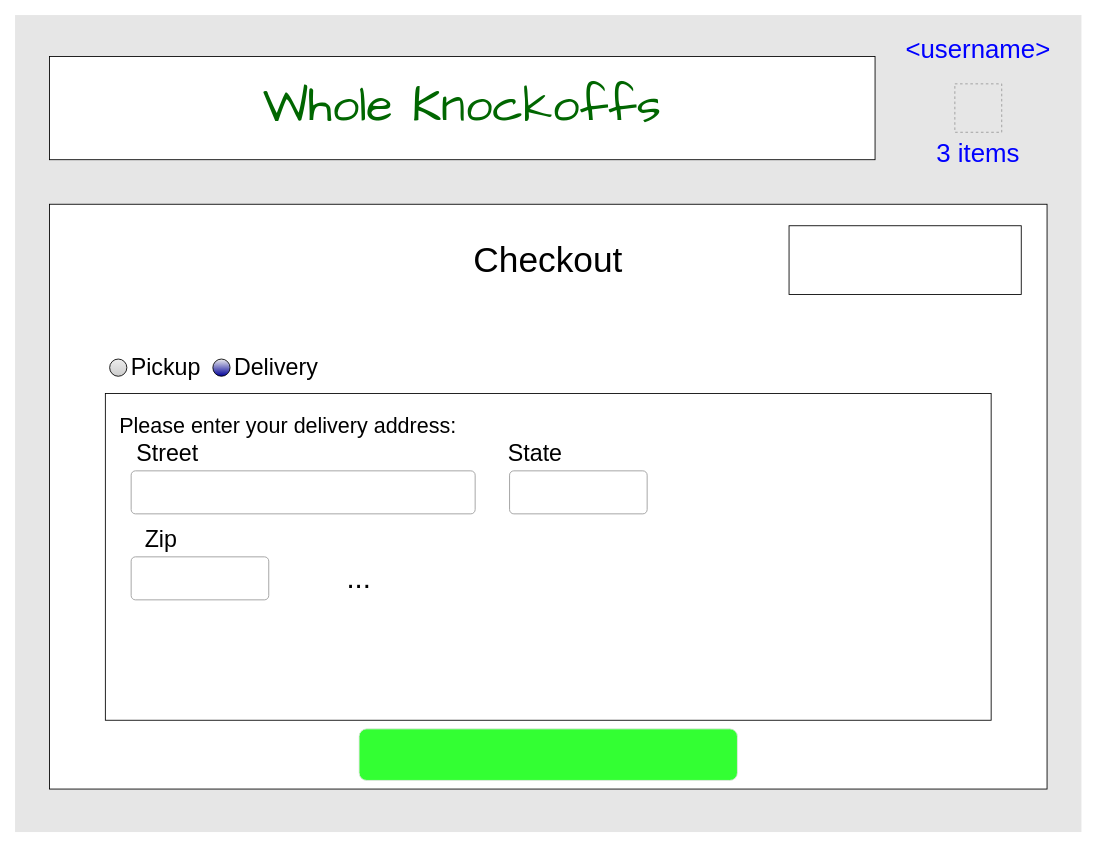
Image size: 1096x846. Some labels were removed from this diagram. Grey dashed boxes stand in for pictures. Each missing label, with the centre of its shape:
"Complete Order" goes at (x=547, y=754).
"Total: $5.17" goes at (x=904, y=260).
